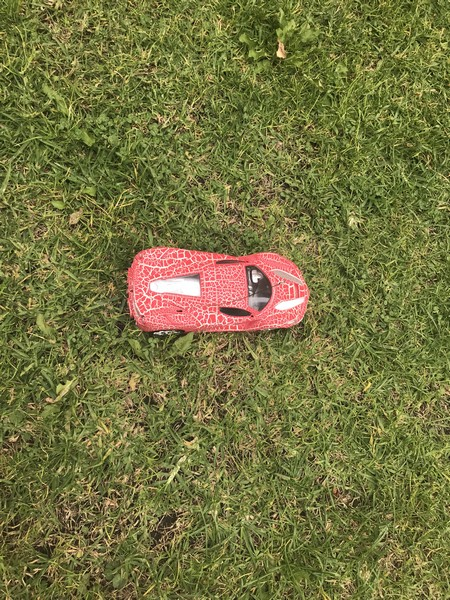RC: (125, 246, 314, 339)
